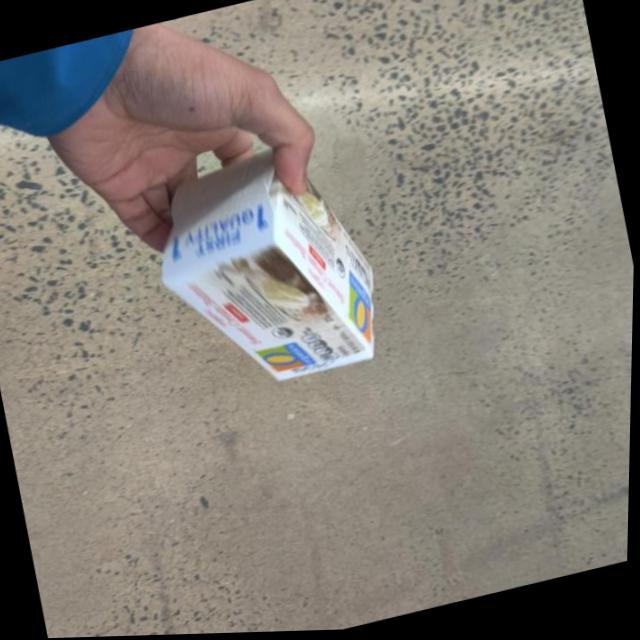Butter: (137, 142, 392, 407)
